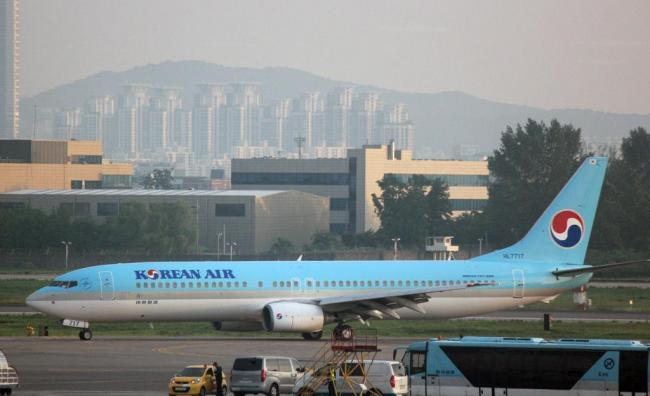airplane: (21, 155, 644, 344)
